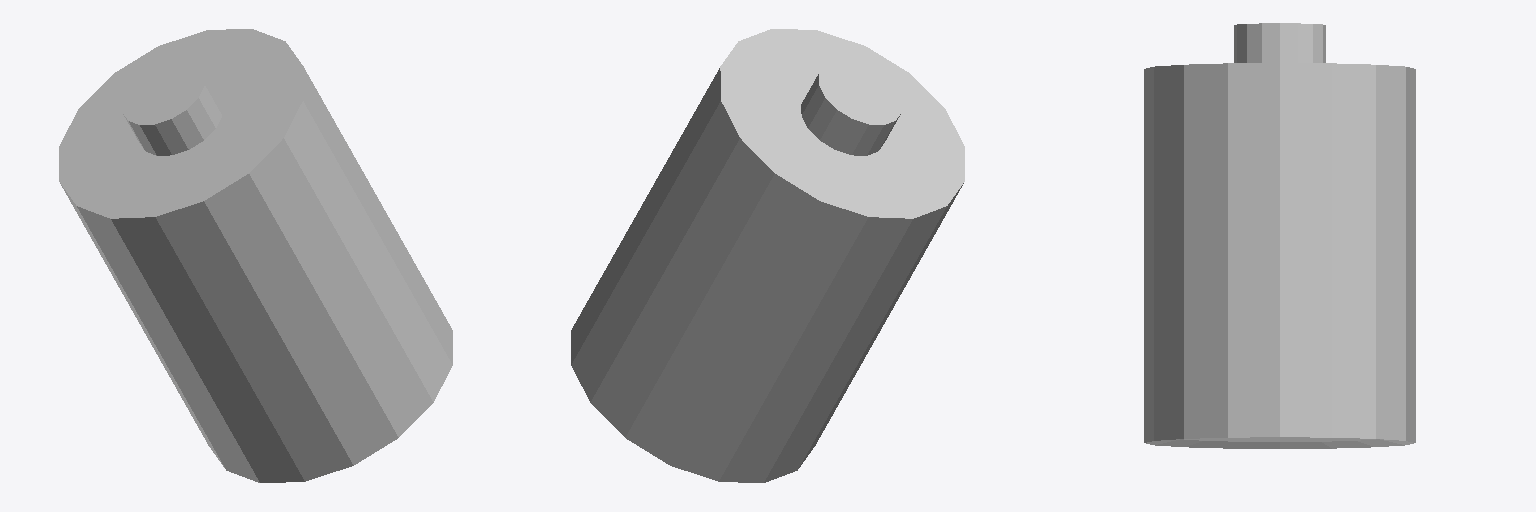
Rendered from battery.obj.
3 renders of one model, left to right at view 1: azimuth 30°, elevation 25°; view 2: azimuth 150°, elevation 25°; view 3: azimuth 270°, elevation 25°, orthographic.
Visible parts, largest first — view 1: Cylinder_Cylinder.001; view 2: Cylinder_Cylinder.001; view 3: Cylinder_Cylinder.001.
Boxes of the visible parts, <box> form: Cylinder_Cylinder.001: <box>59,29,452,482</box>; Cylinder_Cylinder.001: <box>571,29,964,482</box>; Cylinder_Cylinder.001: <box>1144,23,1415,448</box>.
Bounding box in the file's own units: 0.661 × 0.7307 × 0.4339.